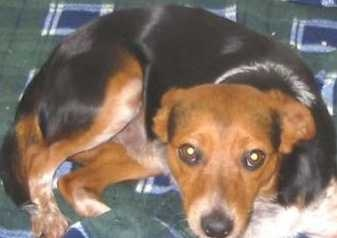dog: (31, 0, 320, 238)
